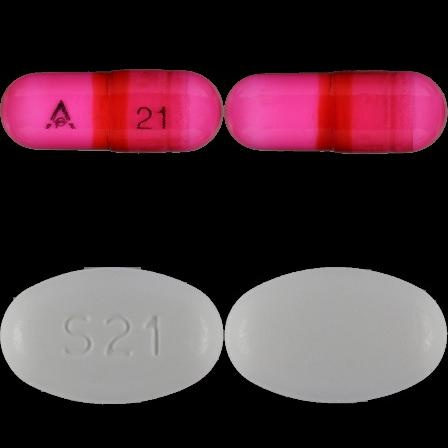55700-042: (0, 0, 224, 224)
